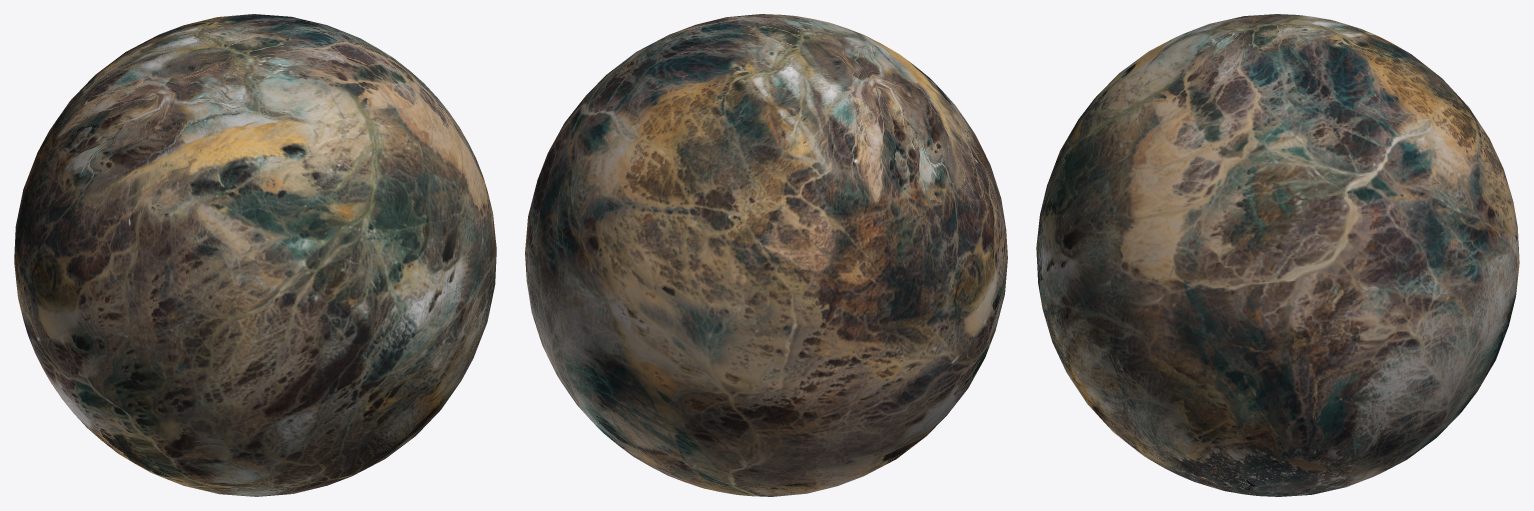
Rendered from planet.gltf.
3 views of the same model, side by side, from view 1: azimuth 30°, elevation 25°; view 2: azimuth 150°, elevation 25°; view 3: azimuth 270°, elevation 25° (orthographic).
Parts seen in each view (by area): view 1: Icosphere; view 2: Icosphere; view 3: Icosphere.
Boxes of the visible parts, x1,y1,x2,y2 form: Icosphere: (14,14,496,496); Icosphere: (525,14,1007,496); Icosphere: (1036,14,1519,496).
Bounding box in the file's own units: 9.98 × 10 × 9.99.
Materials: 1 (1 with a texture image).
